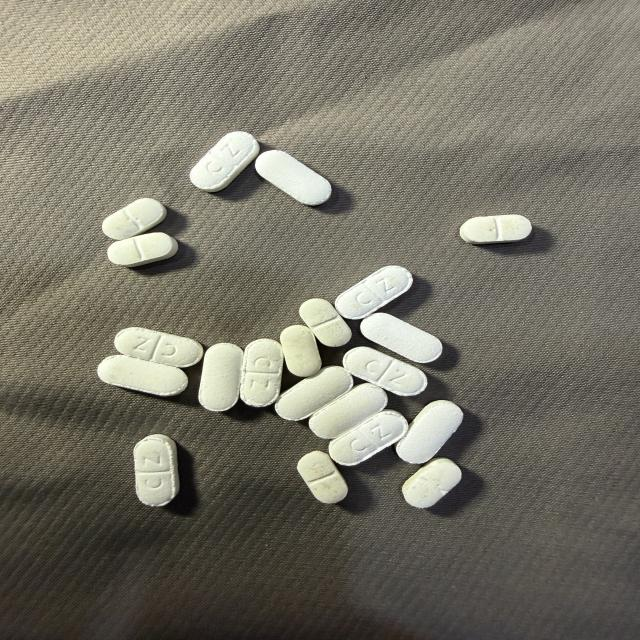pill: (329, 410, 408, 465), (309, 383, 387, 438), (396, 400, 463, 463), (275, 366, 353, 420), (256, 150, 331, 205), (343, 347, 427, 396), (360, 313, 442, 363), (190, 132, 259, 191), (336, 266, 412, 319), (98, 355, 187, 396), (115, 327, 203, 367), (134, 435, 179, 506), (402, 458, 461, 508), (199, 344, 243, 411), (240, 339, 283, 407), (103, 198, 166, 240), (298, 451, 347, 503), (300, 299, 351, 347), (108, 233, 178, 267), (280, 325, 321, 377), (460, 215, 531, 244)
